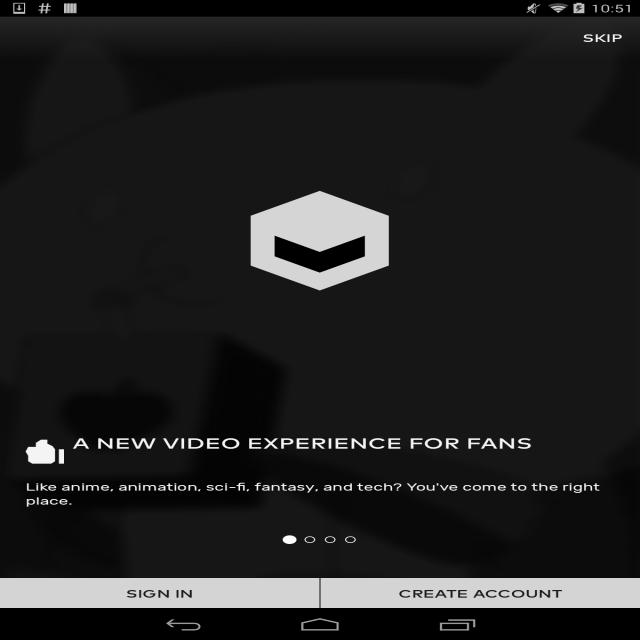Button: (320, 578, 640, 608), (0, 578, 319, 608)
ImageView: (251, 190, 389, 290), (26, 432, 64, 471), (279, 533, 300, 546), (340, 533, 361, 546), (300, 533, 320, 546), (320, 533, 340, 546)
TextView: (26, 481, 614, 523), (72, 432, 614, 471), (582, 17, 623, 59)
